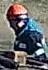helmet: (6, 4, 30, 22)
vest: (13, 23, 46, 59)
